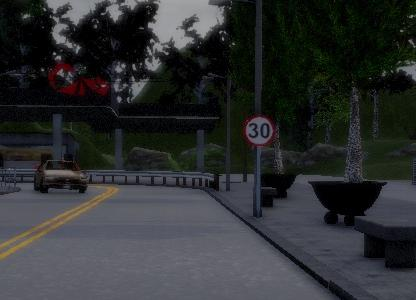Speed_30: (243, 113, 276, 148)
